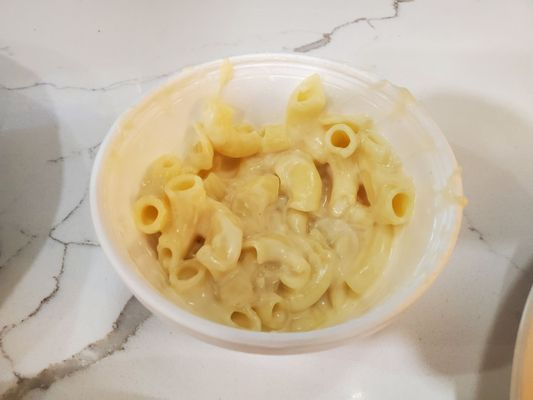sushi: (88, 56, 457, 358)
